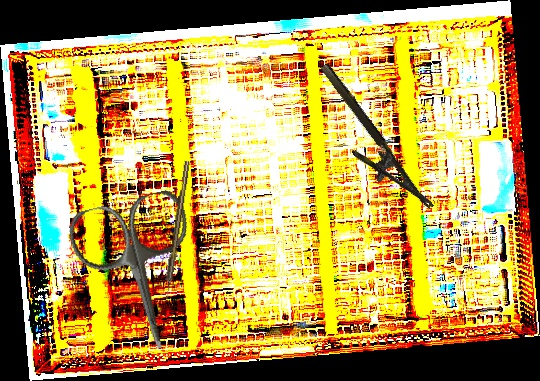Hook Surgical: (161, 160, 192, 302)
Iris Scissors: (64, 186, 216, 364)
Needle Holder: (301, 61, 434, 227)
